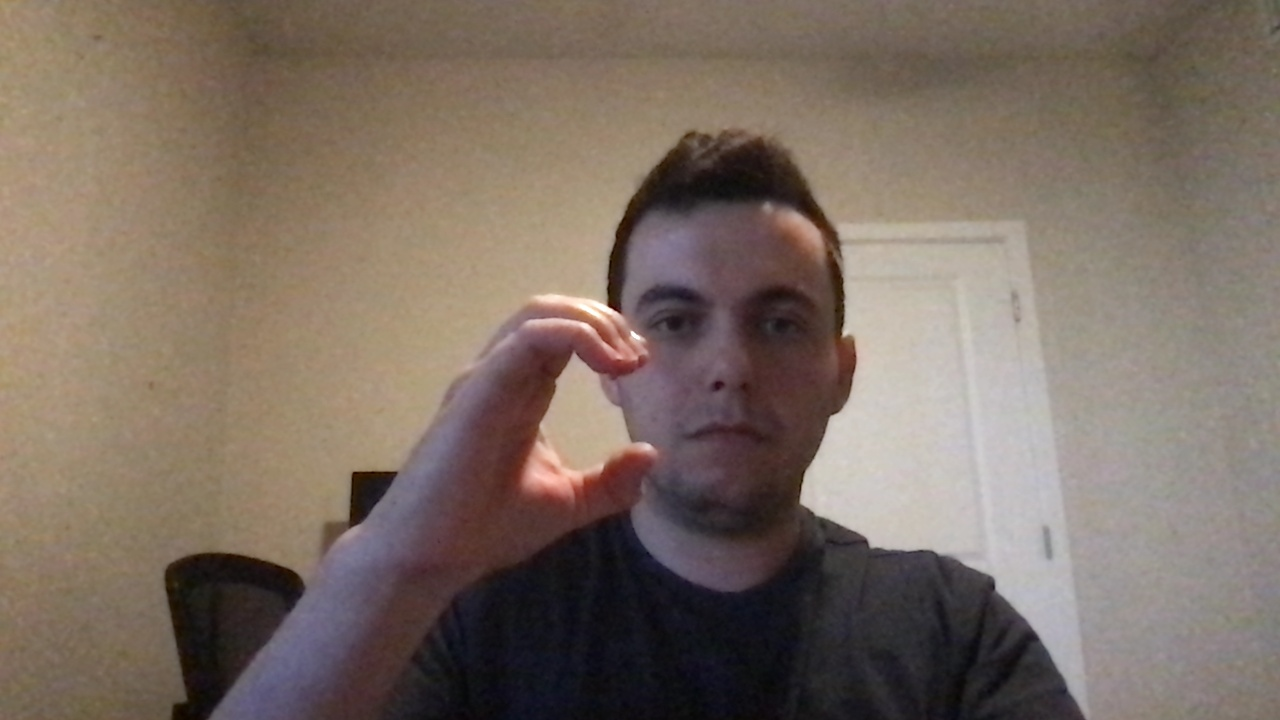c: (387, 281, 671, 574)
